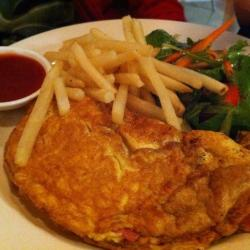fries: (42, 26, 200, 121)
ketchup: (2, 48, 52, 114)
omelette: (20, 110, 244, 245)
salad: (158, 37, 246, 131)
